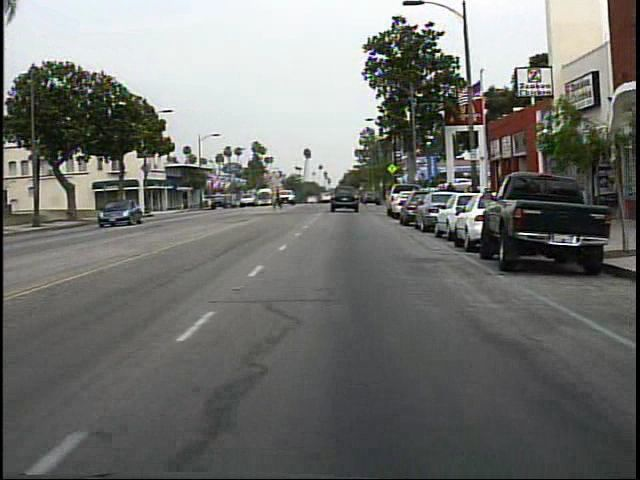person: (441, 178, 461, 218), (272, 185, 286, 214)
